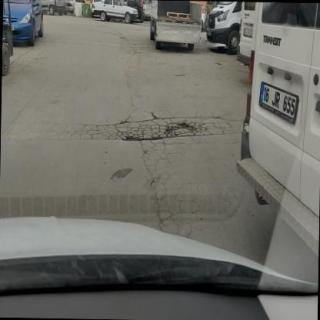pothole: (122, 123, 197, 141)
